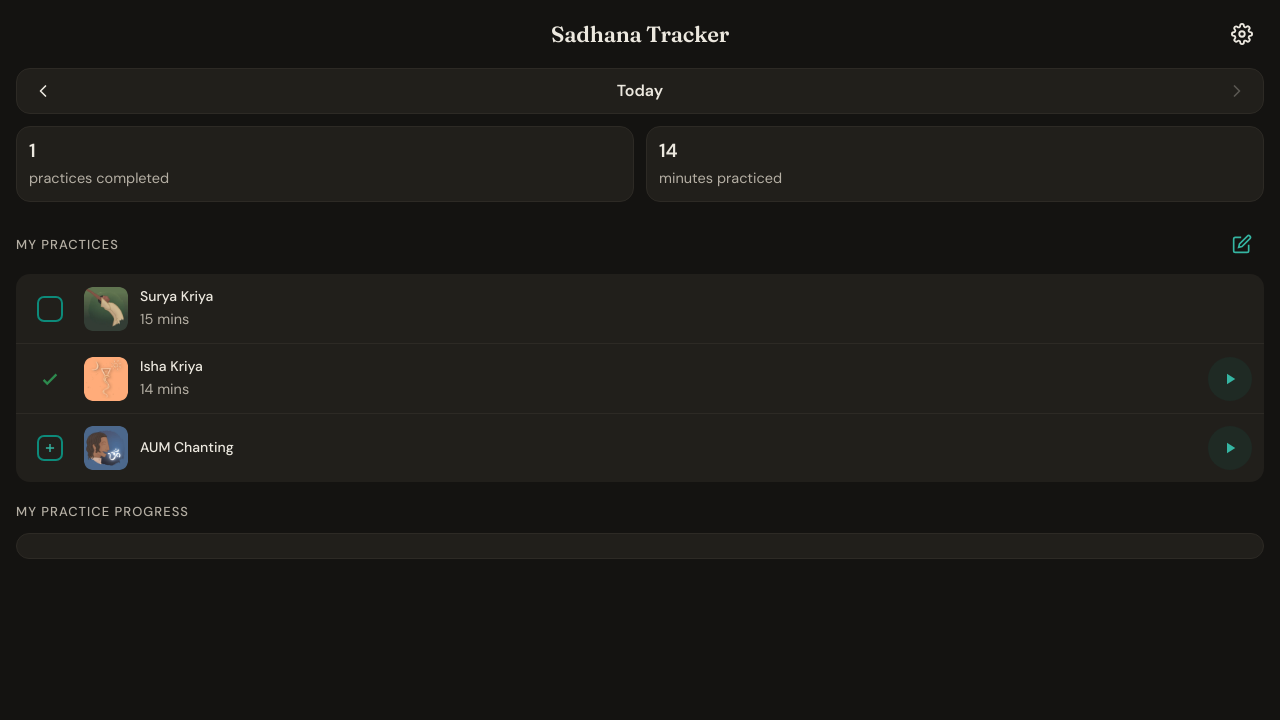
Scenario: Practice home day switcher › tells two removed instances of one practice apart
Click the button named "Show yesterday".
click(43, 91)  # box [21,69,65,113]
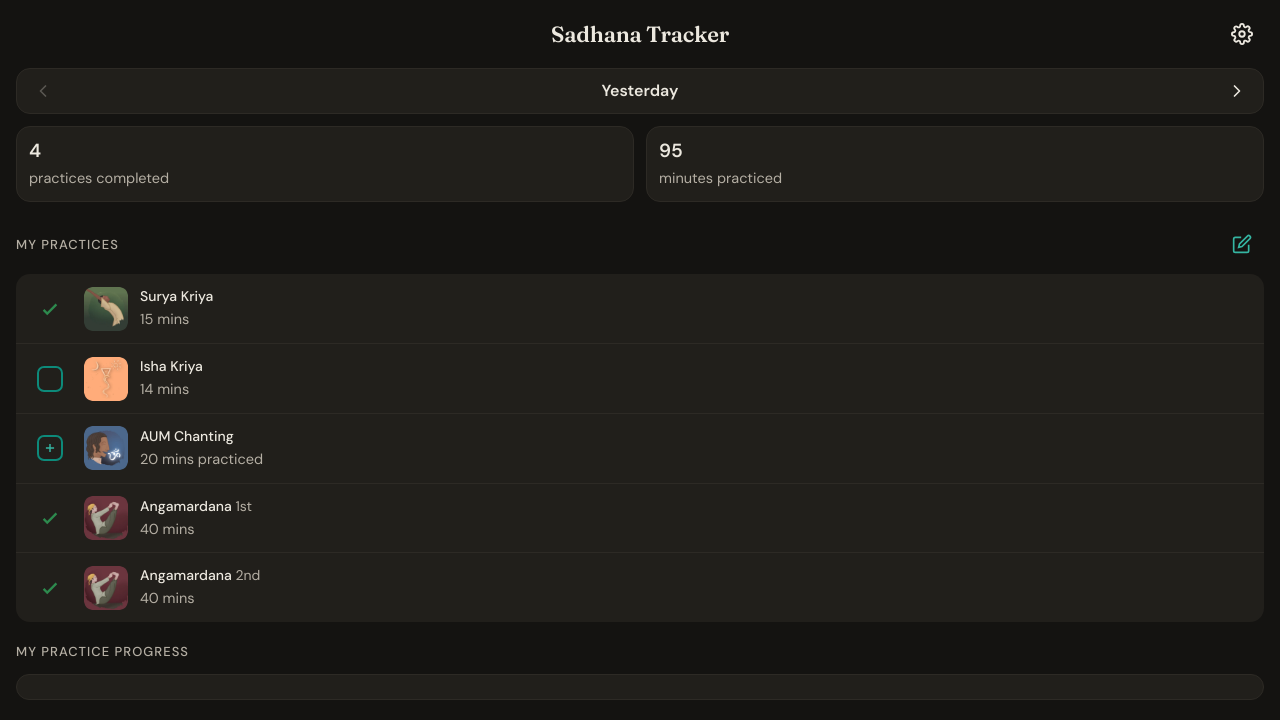
Now the text "1st" is shown, box [235,497,252,515]
Now the text "2nd" is shown, box [235,566,260,584]
